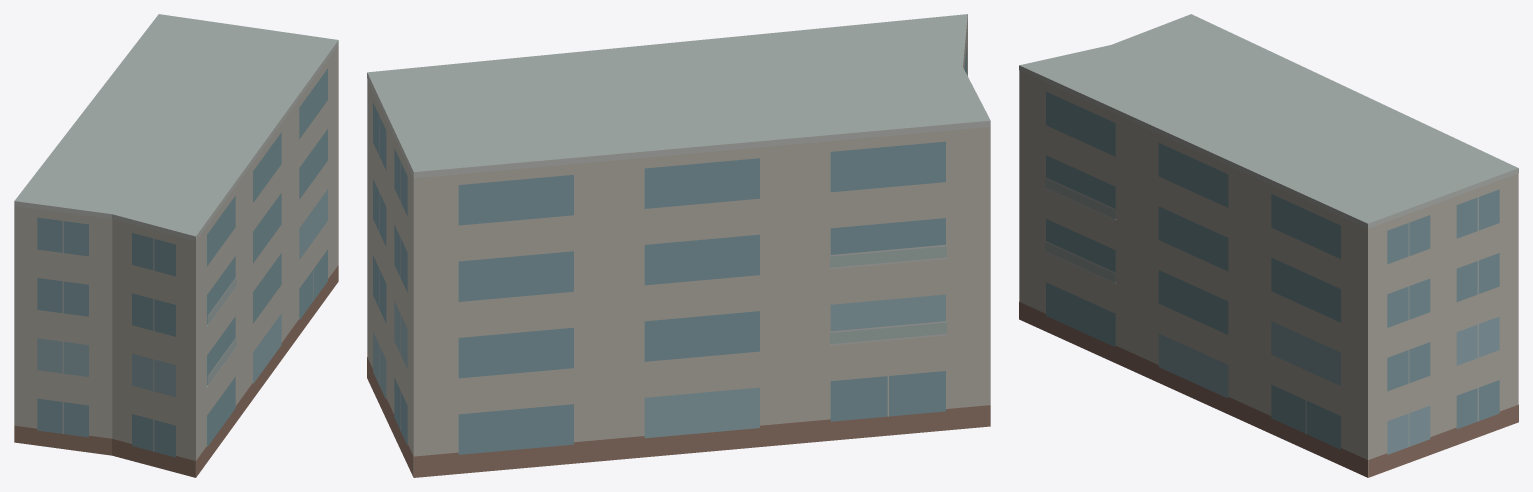
The model's file is survey-upis-32716414.glb.
3 renders of one model, left to right at view 1: azimuth 30°, elevation 25°; view 2: azimuth 150°, elevation 25°; view 3: azimuth 270°, elevation 25°, orthographic. The views are drawn at different scales.
Parts seen in each view (by area): view 1: survey-upis-32716414.tmp; view 2: survey-upis-32716414.tmp; view 3: survey-upis-32716414.tmp.
Part boxes in pixels (bbox=[...]): survey-upis-32716414.tmp: bbox=[14, 14, 338, 477]; survey-upis-32716414.tmp: bbox=[367, 14, 990, 477]; survey-upis-32716414.tmp: bbox=[1019, 14, 1518, 477].
Bounding box in the file's own units: 21.6 × 12.2 × 21.74.
